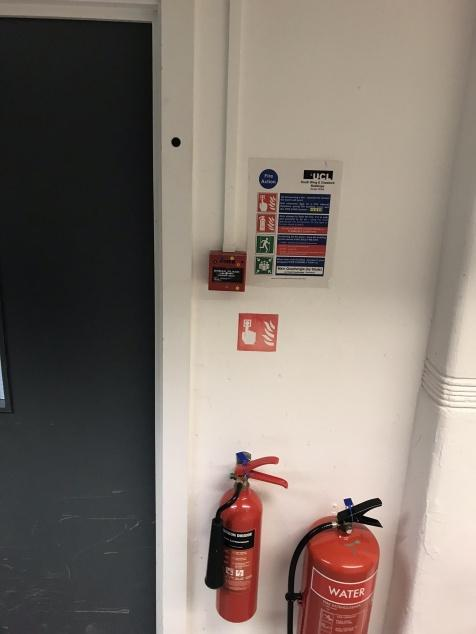APAR: (211, 454, 288, 623), (295, 497, 384, 633)
